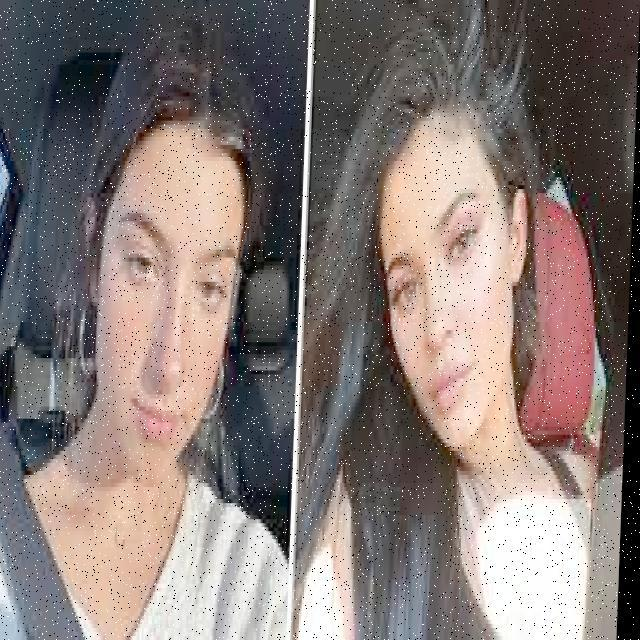seatbelt: (0, 443, 285, 640)
